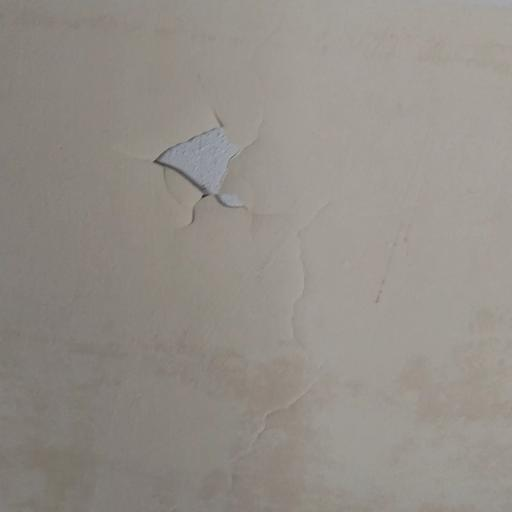peeling: (220, 180, 362, 469), (100, 65, 302, 246)
